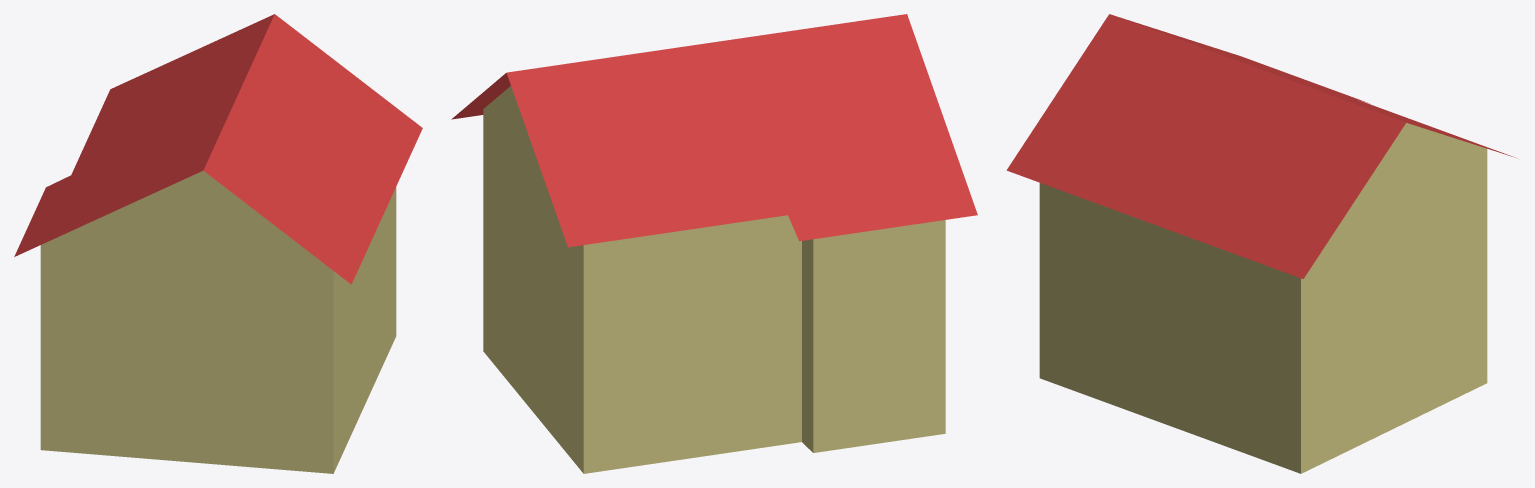
3 views of the same model, side by side, from view 1: azimuth 30°, elevation 25°; view 2: azimuth 150°, elevation 25°; view 3: azimuth 270°, elevation 25° (orthographic). The views are drawn at different scales.
Visible parts, largest first — view 1: group_5, group_3, group_4; view 2: group_5, group_3, group_4; view 3: group_5, group_3, group_4.
Boxes of the visible parts, x1=… form: group_5: x1=40, y1=170, x2=396, y2=473; group_3: x1=15, y1=14, x2=422, y2=283; group_4: x1=14, y1=14, x2=383, y2=284; group_5: x1=483, y1=86, x2=945, y2=473; group_3: x1=530, y1=14, x2=977, y2=231; group_4: x1=451, y1=14, x2=977, y2=247; group_5: x1=1039, y1=123, x2=1487, y2=473; group_3: x1=1008, y1=18, x2=1481, y2=278; group_4: x1=1006, y1=14, x2=1515, y2=228.
Size of the model in its own units: 16.74 by 16.3 by 11.03.
